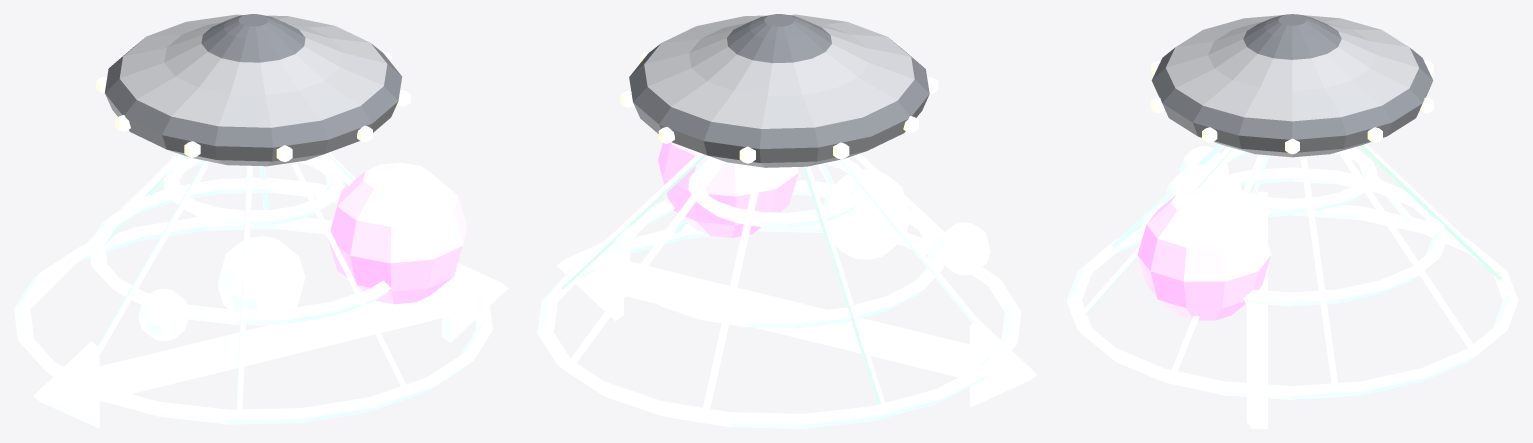
Rendered from item_wide.glb.
The picture shows the model from 3 angles, left to right: view 1: azimuth 30°, elevation 25°; view 2: azimuth 150°, elevation 25°; view 3: azimuth 270°, elevation 25°; orthographic projection. The views are drawn at different scales.
Parts seen in each view (by area): view 1: item_wide; view 2: item_wide; view 3: item_wide.
Boxes of the visible parts, box(x1,y1,x2,y2) form: item_wide: box(14, 14, 508, 428); item_wide: box(537, 14, 1037, 428); item_wide: box(1066, 14, 1518, 428).
Size of the model in its own units: 1.44 by 1.03 by 1.28.
